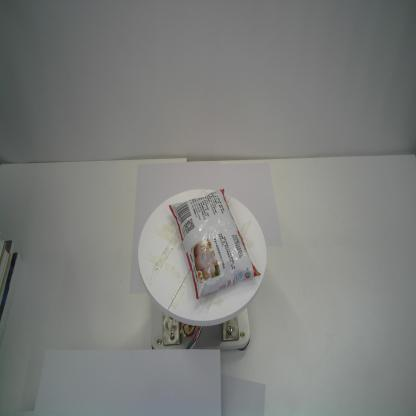Seasoner: (168, 189, 261, 299)
